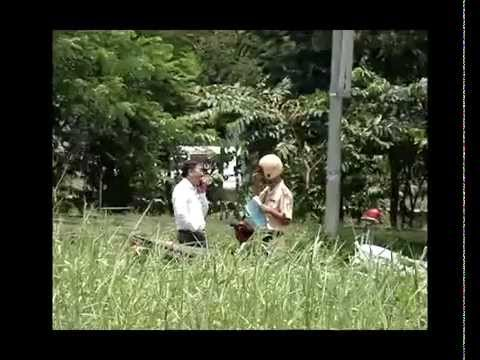police: (243, 154, 303, 250)
